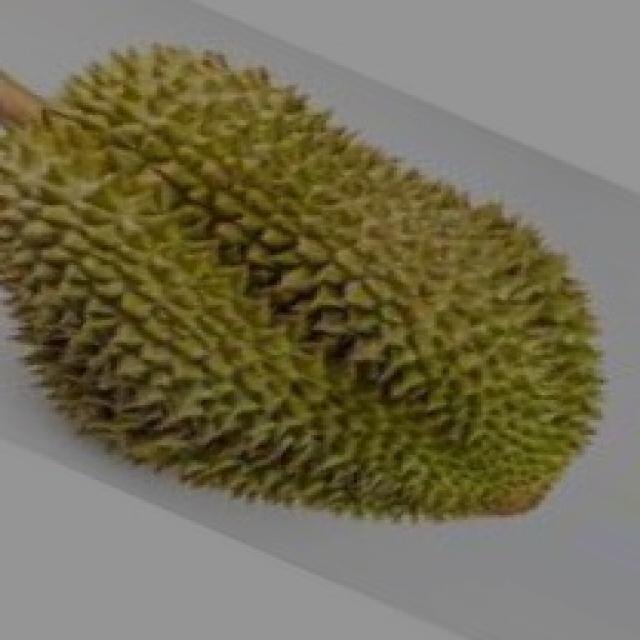fruit: (277, 178, 640, 570), (0, 210, 375, 585)
